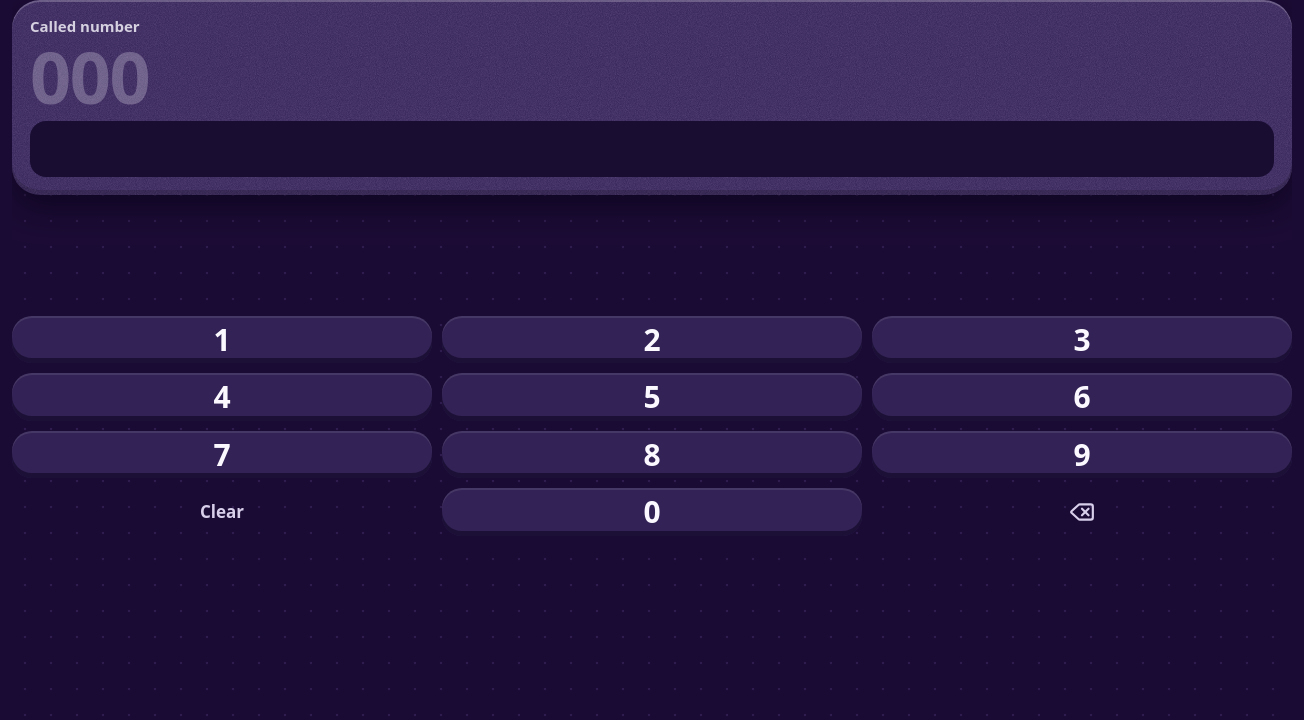
Test case: CheckPad › backspace and clear edit the entry
Click the button "3" at (1082, 340), box [872, 316, 1292, 363]
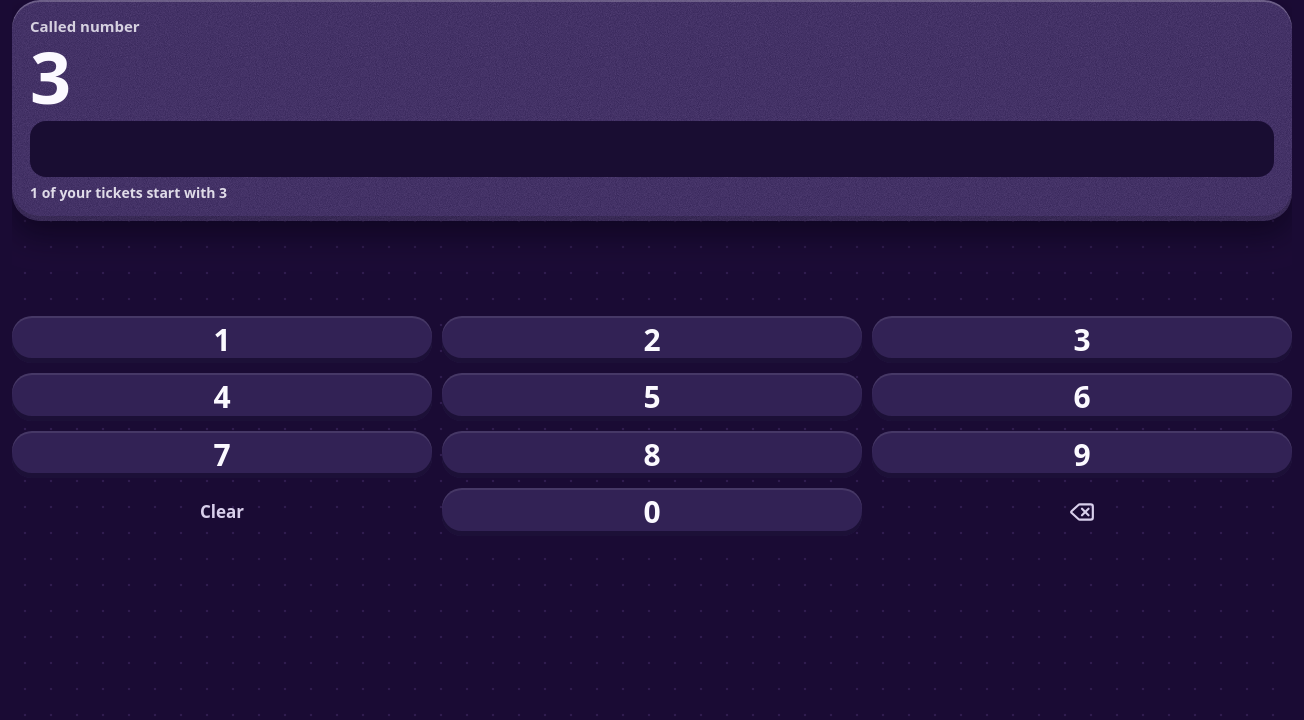
Click the button "6" at (1082, 397), box [872, 374, 1292, 421]
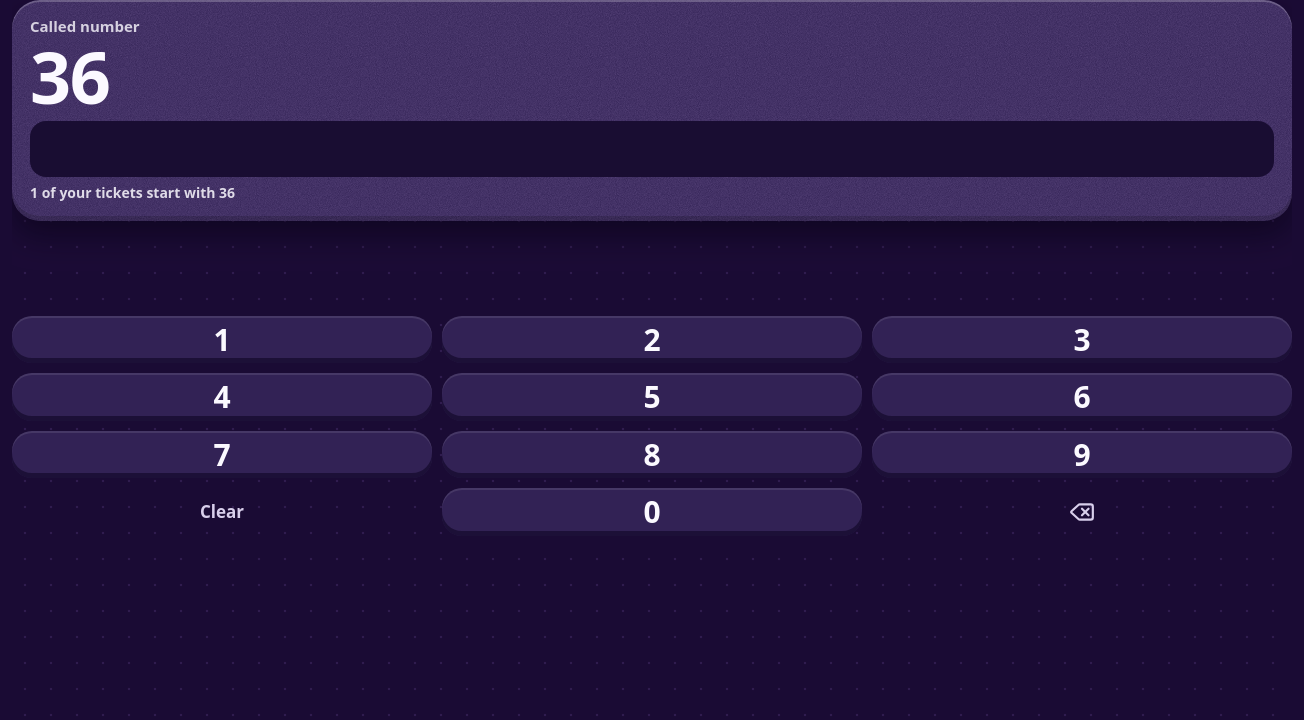
Click the button "1" at (222, 340), box [12, 316, 432, 363]
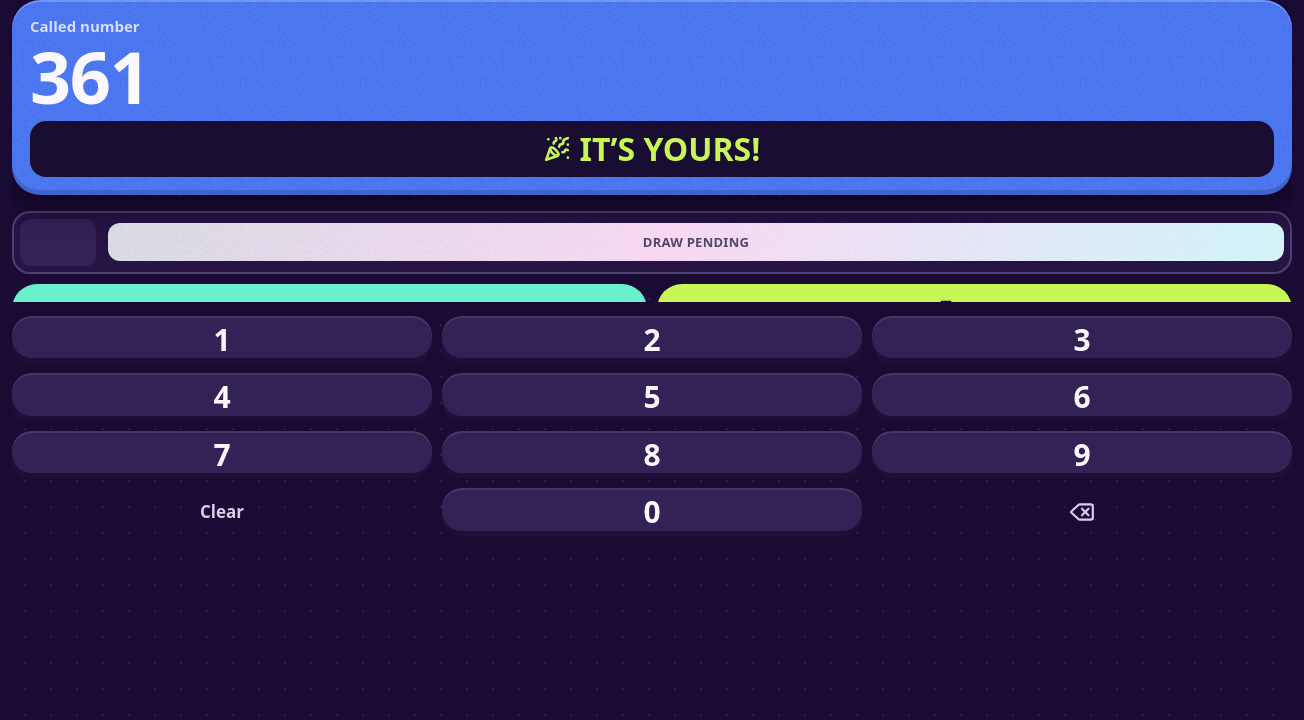
Click the button named "Delete last digit" at (1082, 512), box [872, 488, 1292, 536]
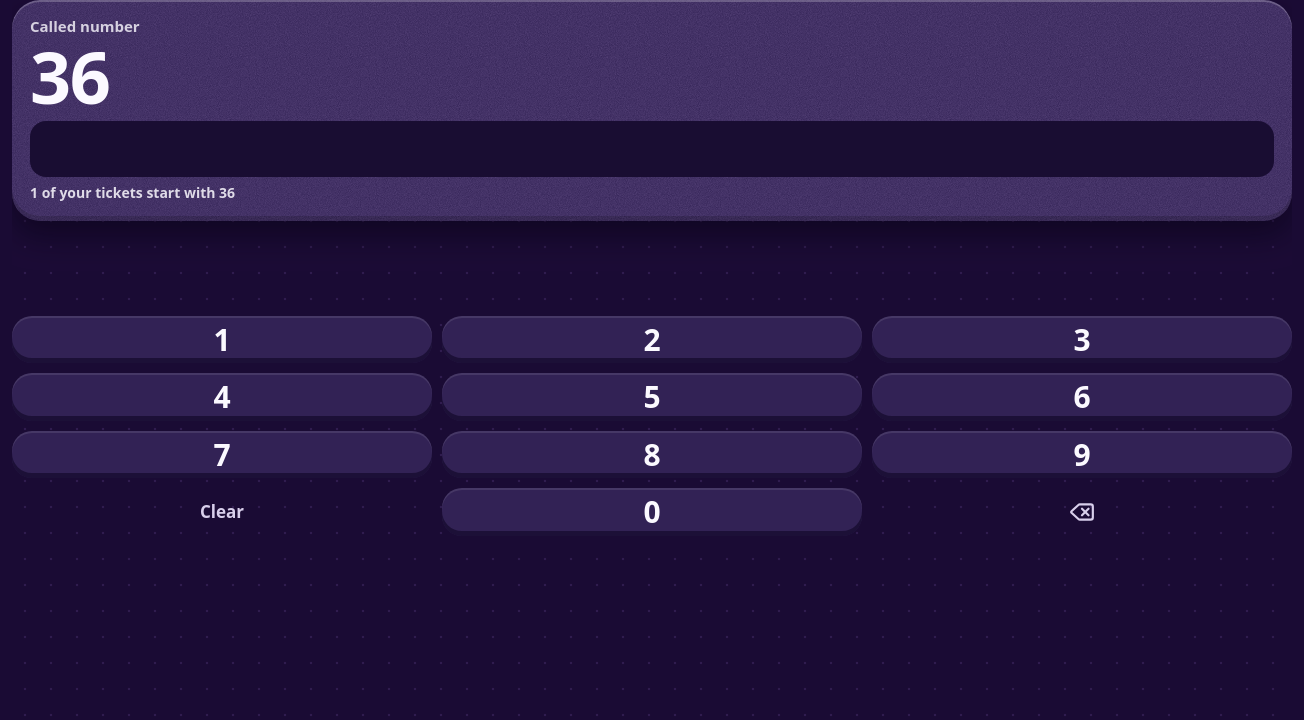
Expected: the text "36" is shown, [30, 27, 110, 125]
Click the button "Clear" at (222, 512), box [12, 488, 432, 536]
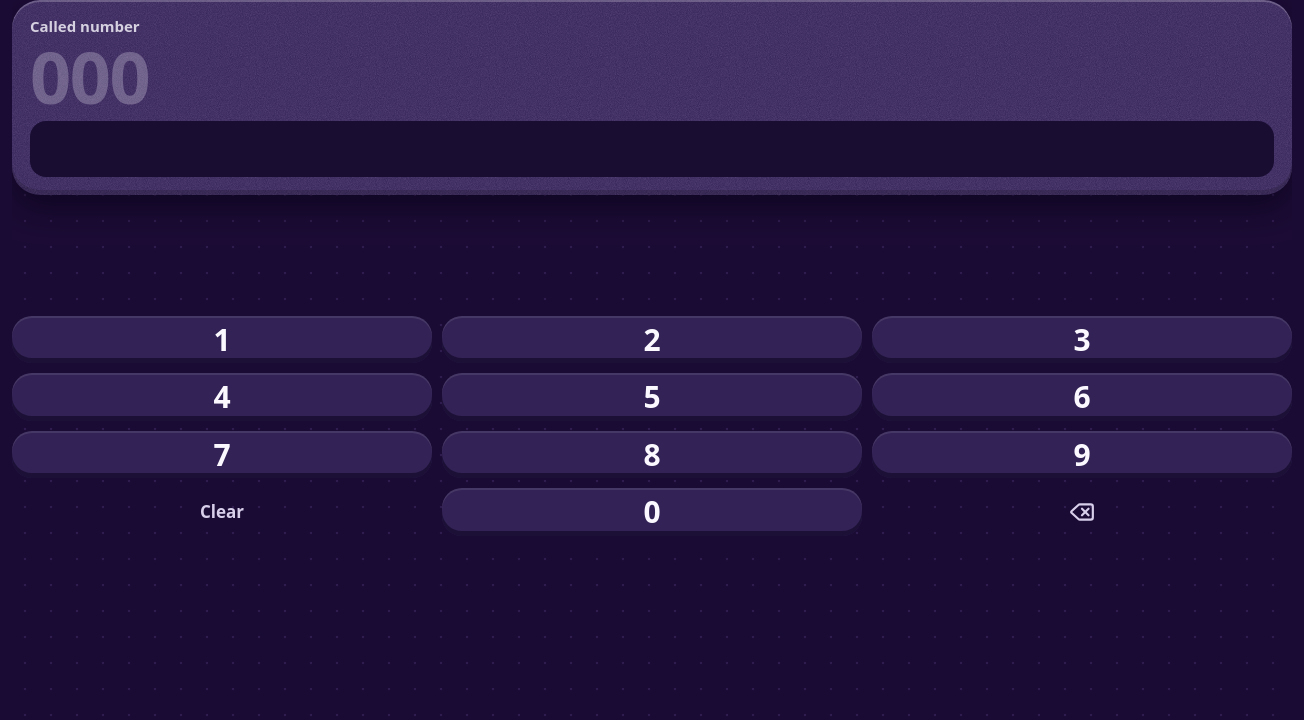
Expected: the text "000" is shown, [30, 27, 149, 125]
